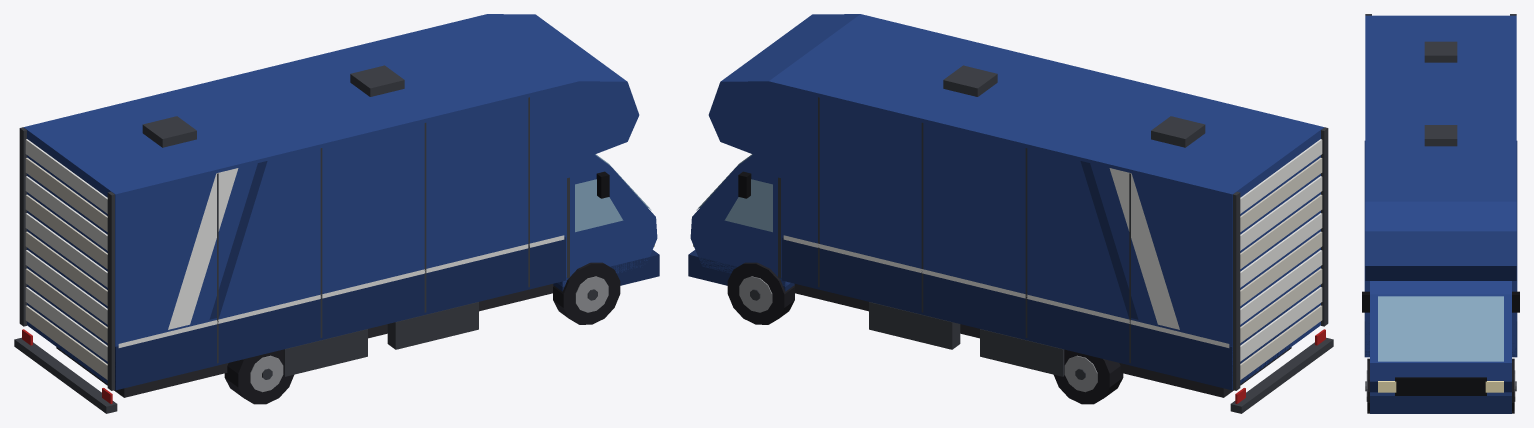
Rendered from van.glb.
3 renders of one model, left to right at view 1: azimuth 30°, elevation 25°; view 2: azimuth 150°, elevation 25°; view 3: azimuth 270°, elevation 25°, orthographic. The views are drawn at different scales.
Visible parts, largest first — view 1: Body; view 2: Body; view 3: Body.
Part boxes in pixels (x1=…): Body: x1=14, y1=14, x2=659, y2=413; Body: x1=688, y1=14, x2=1333, y2=413; Body: x1=1362, y1=14, x2=1519, y2=413.
Bounding box in the file's own units: 8.03 × 3.54 × 2.4.
